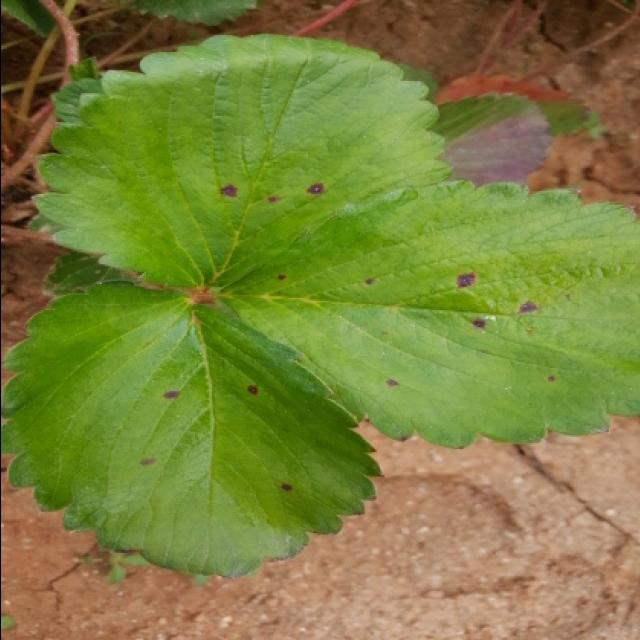Leaf Spot: (212, 180, 640, 449), (2, 280, 384, 580), (27, 32, 455, 292)
